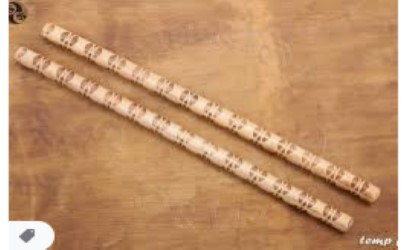baston_e: (27, 56, 339, 221), (55, 35, 363, 190)
baston_v: (349, 172, 383, 209), (321, 201, 354, 236), (9, 37, 36, 71), (34, 17, 63, 43)
